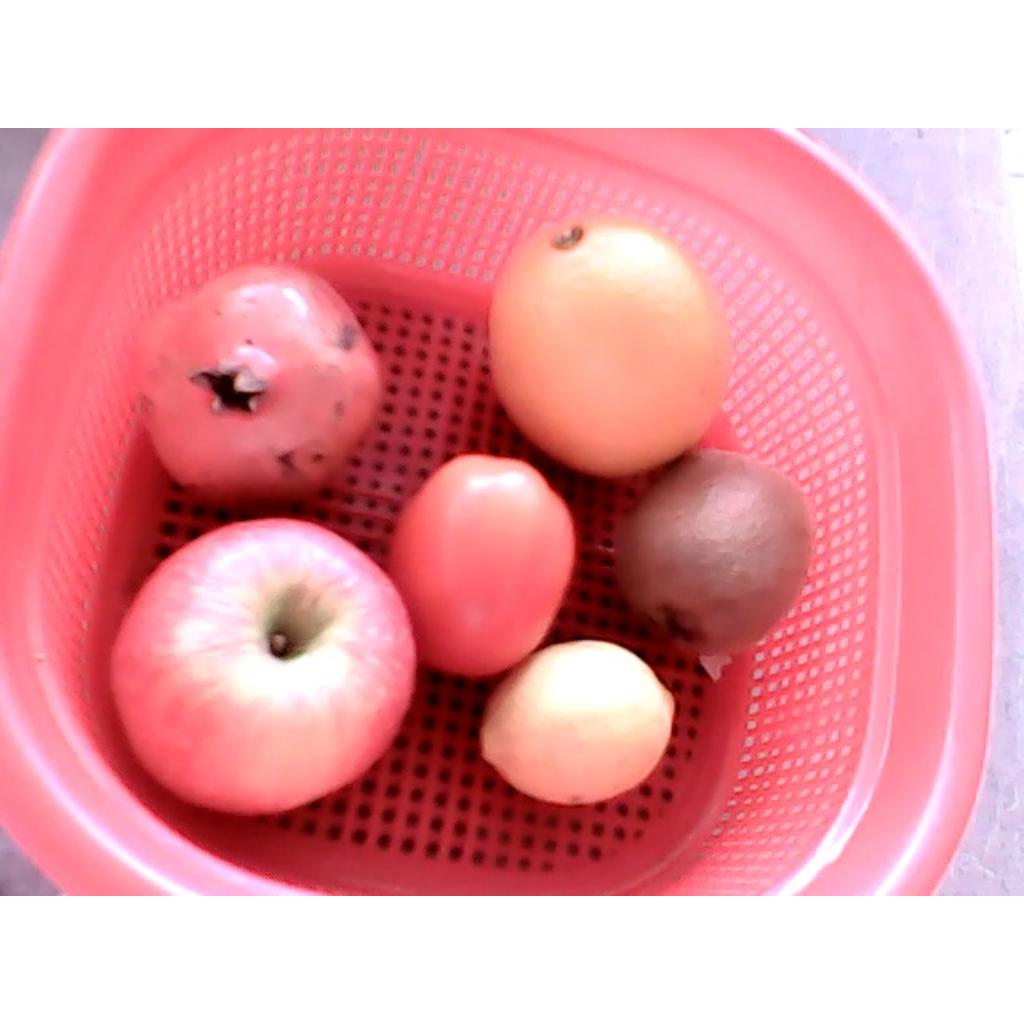apple: (107, 516, 416, 816)
kiwi: (613, 448, 814, 655)
lemon: (480, 639, 676, 807)
orange: (488, 213, 729, 478)
pomegranate: (124, 261, 384, 504)
tomato: (388, 452, 575, 678)
